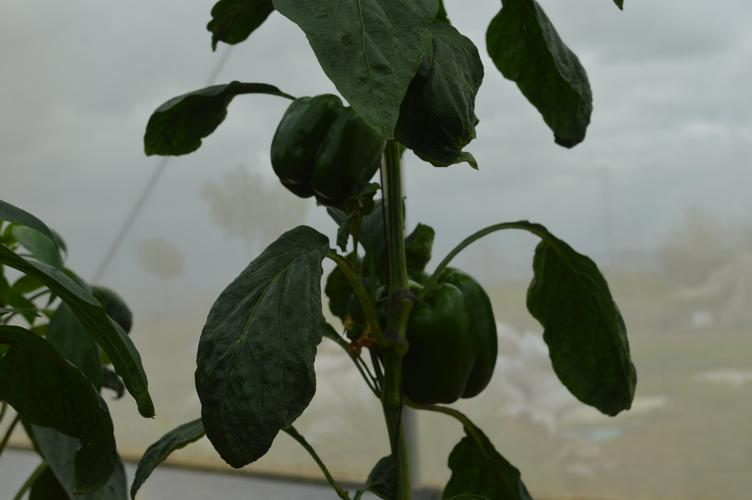BellPepper: (366, 258, 505, 425), (255, 83, 384, 221)
